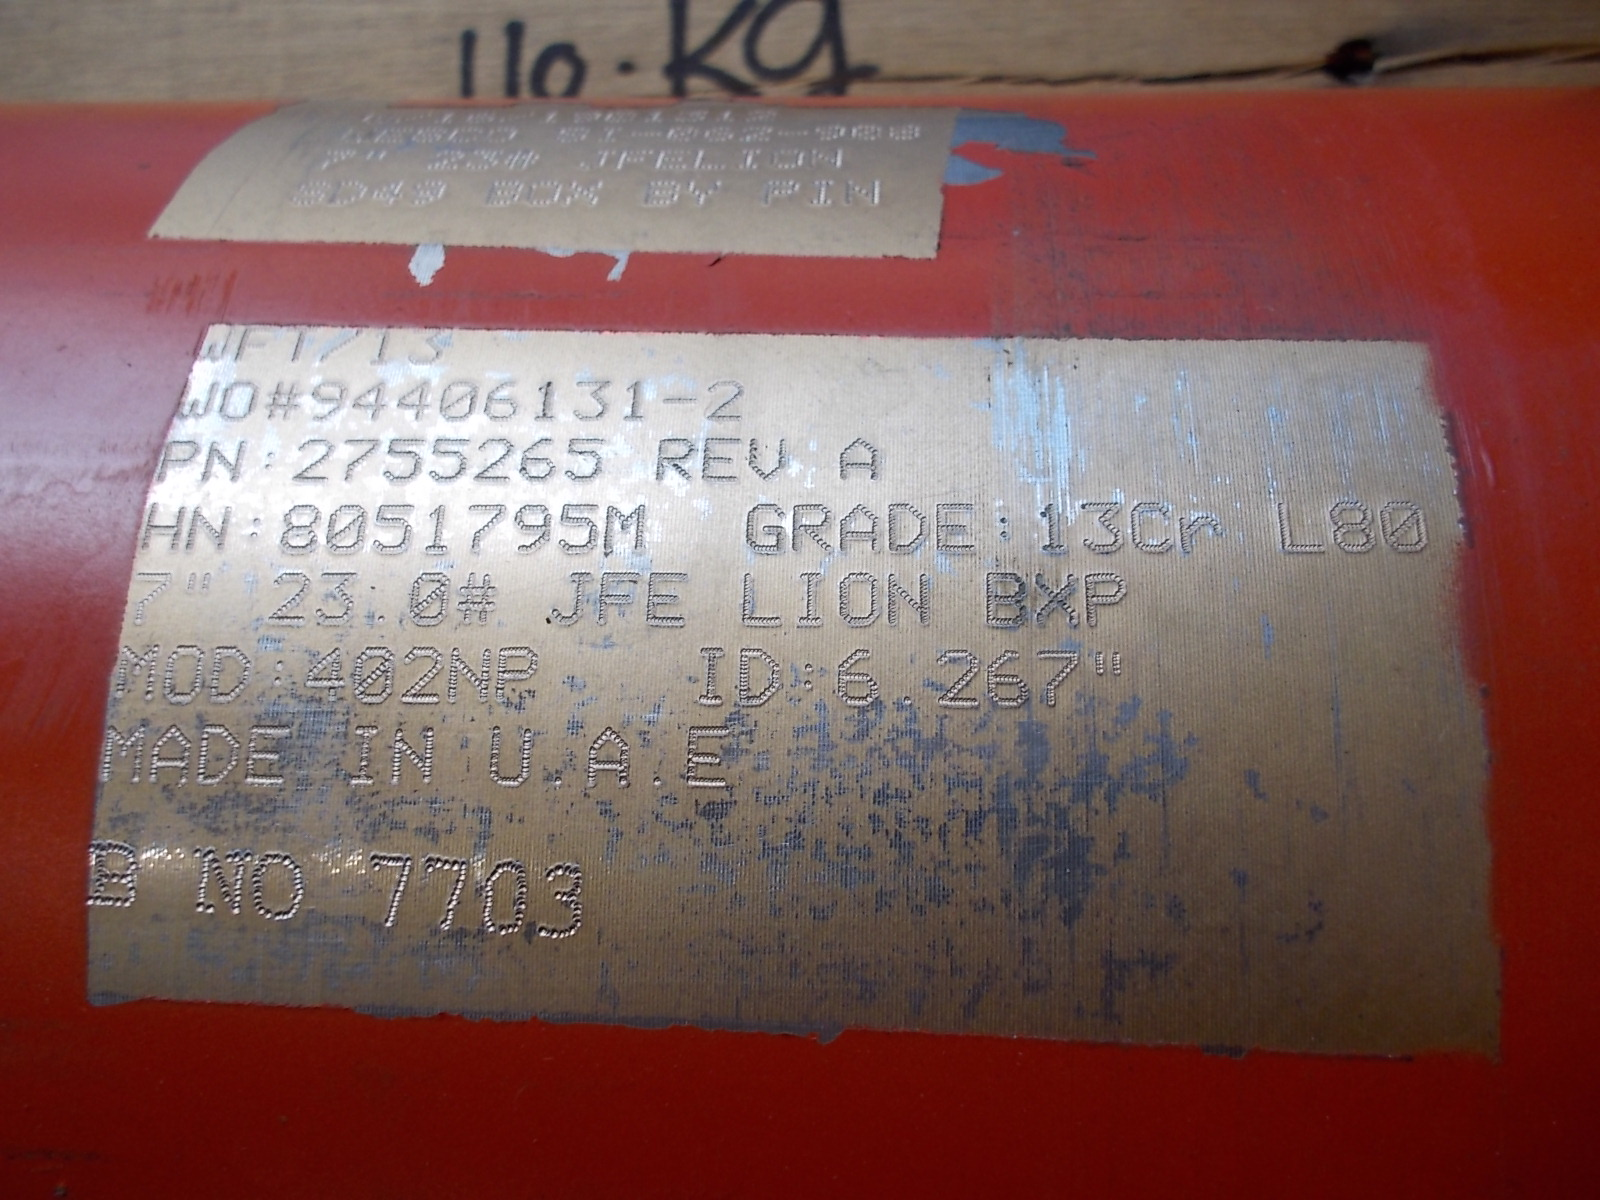character: (529, 856, 601, 945), (188, 843, 253, 920), (472, 855, 527, 945), (580, 724, 641, 799), (1265, 495, 1330, 566), (249, 846, 307, 924), (416, 855, 472, 934), (88, 839, 144, 916), (365, 850, 416, 934), (682, 722, 736, 800), (1380, 493, 1435, 568), (729, 645, 790, 712), (1031, 648, 1089, 717), (484, 724, 540, 794), (241, 725, 299, 792), (831, 645, 884, 717), (1330, 493, 1380, 566), (445, 642, 495, 712), (389, 724, 441, 792), (150, 721, 197, 795), (105, 720, 150, 795), (368, 498, 423, 560), (978, 570, 1032, 633), (981, 648, 1031, 717), (733, 566, 786, 630), (459, 495, 510, 561), (1032, 567, 1083, 633), (833, 568, 886, 632), (886, 568, 939, 632), (398, 642, 445, 712), (495, 642, 540, 713), (737, 497, 787, 561), (510, 495, 557, 565), (929, 648, 981, 708), (641, 568, 692, 632), (198, 434, 252, 492), (207, 645, 254, 711), (350, 642, 398, 707), (346, 718, 389, 792), (112, 643, 159, 710), (1075, 497, 1125, 558), (197, 721, 241, 792), (304, 642, 349, 710), (602, 499, 650, 563), (546, 567, 593, 632), (159, 645, 207, 710), (932, 498, 981, 560), (1125, 497, 1174, 558), (687, 643, 729, 713), (593, 568, 641, 632), (407, 570, 457, 629), (557, 499, 602, 565), (1032, 489, 1075, 558), (882, 498, 932, 556), (312, 562, 358, 626), (457, 566, 501, 632), (1083, 567, 1128, 633), (787, 498, 833, 561), (272, 500, 323, 557), (399, 321, 457, 371), (833, 498, 882, 556), (186, 500, 236, 558), (263, 568, 312, 626), (141, 498, 186, 558), (130, 568, 173, 632), (323, 500, 368, 560), (835, 432, 886, 484), (317, 318, 367, 371), (1175, 511, 1230, 558), (433, 373, 480, 429), (426, 432, 472, 488), (287, 434, 336, 485), (472, 432, 518, 488), (695, 434, 745, 484), (380, 432, 426, 487), (557, 436, 606, 485), (156, 434, 198, 492), (616, 371, 658, 427), (336, 434, 380, 487), (481, 377, 525, 429), (745, 434, 791, 482), (346, 377, 392, 426), (568, 377, 614, 426), (792, 567, 828, 630), (704, 373, 747, 425), (173, 376, 218, 424), (651, 436, 695, 484), (392, 376, 432, 427), (518, 432, 557, 485), (423, 498, 457, 558), (233, 319, 276, 367), (261, 378, 304, 426), (304, 378, 346, 426), (189, 323, 233, 367), (525, 377, 563, 427), (218, 379, 260, 424), (328, 175, 370, 216), (289, 173, 328, 216), (761, 175, 808, 211), (282, 325, 317, 371), (685, 178, 727, 216), (845, 174, 889, 209), (805, 142, 850, 174), (315, 145, 360, 176), (564, 176, 606, 211), (641, 178, 685, 209), (574, 145, 617, 176), (810, 173, 845, 211), (370, 175, 406, 213), (408, 178, 446, 213), (488, 179, 527, 212), (178, 563, 220, 592), (1090, 650, 1130, 681), (527, 179, 564, 211), (464, 145, 501, 176), (423, 147, 464, 176), (370, 321, 392, 372), (766, 146, 801, 176), (619, 145, 655, 174), (693, 147, 732, 174), (655, 147, 693, 173), (658, 388, 699, 411), (738, 146, 766, 174), (363, 147, 391, 171), (268, 655, 289, 688), (244, 514, 267, 542), (997, 513, 1014, 545), (548, 774, 571, 795), (260, 446, 276, 475), (803, 662, 816, 692), (648, 774, 668, 790), (897, 695, 916, 708)
